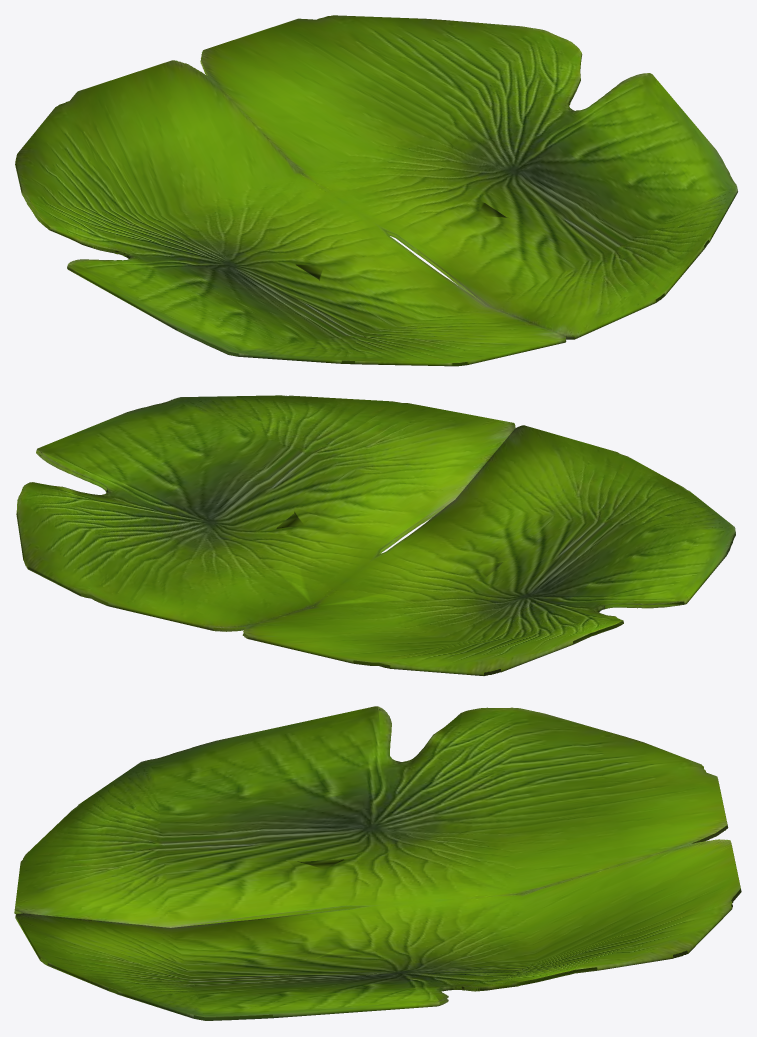
File: leaf_attempt_one.fbx
3 renders of one model, top to bottom at view 1: azimuth 30°, elevation 25°; view 2: azimuth 150°, elevation 25°; view 3: azimuth 270°, elevation 25°, orthographic. The views are drawn at different scales.
Visible parts, largest first — view 1: Leaf; view 2: Leaf; view 3: Leaf.
Part boxes in pixels (<box>): Leaf: <box>15,15,737,366</box>; Leaf: <box>16,395,735,675</box>; Leaf: <box>14,706,741,1020</box>.
Bounding box in the file's own units: 207 × 26.91 × 199.
Materials: 1 (1 with a texture image).
